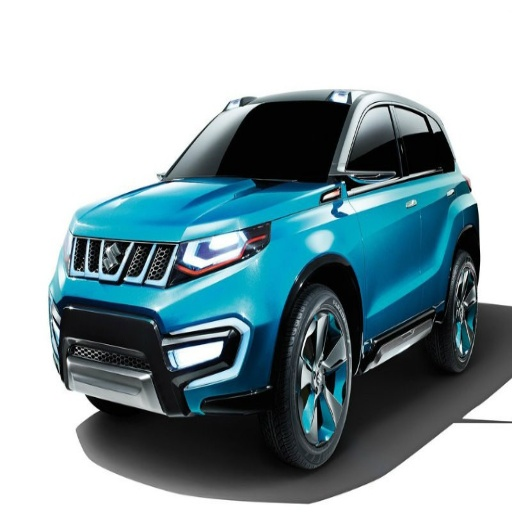front_bumper: (48, 235, 291, 415)
front_glass: (163, 104, 331, 182)
front_left_door: (338, 101, 418, 315)
